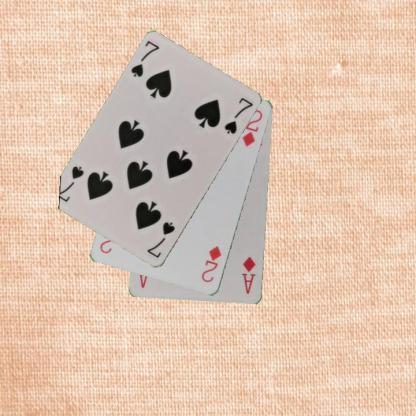2d: (199, 244, 223, 284)
7s: (128, 38, 161, 79), (144, 219, 176, 260)
Ad: (239, 254, 258, 296)
